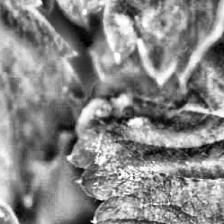Powdery Mildew Leaf: (66, 0, 224, 224), (76, 0, 224, 93)
